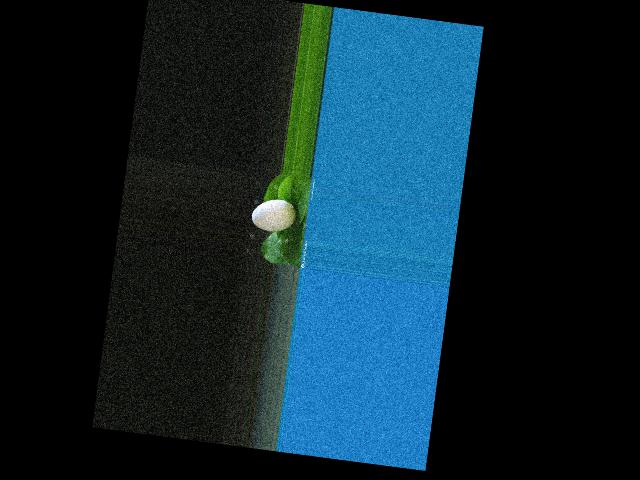egg: (250, 196, 298, 234)
